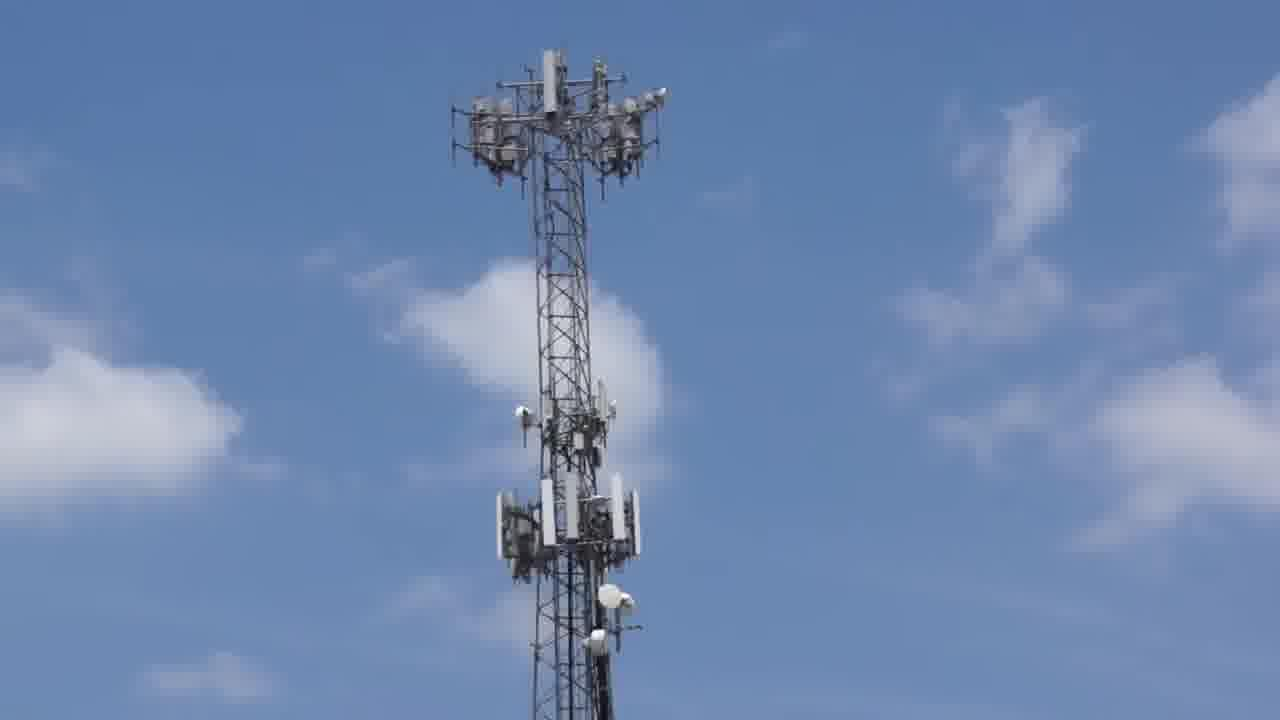Microwave Antenna: (593, 579, 627, 610), (649, 85, 670, 119), (585, 629, 610, 656), (618, 591, 643, 618), (513, 397, 532, 431), (609, 397, 620, 420)
antenna: (529, 469, 564, 552), (531, 46, 569, 122), (602, 475, 633, 555), (559, 465, 586, 542)
